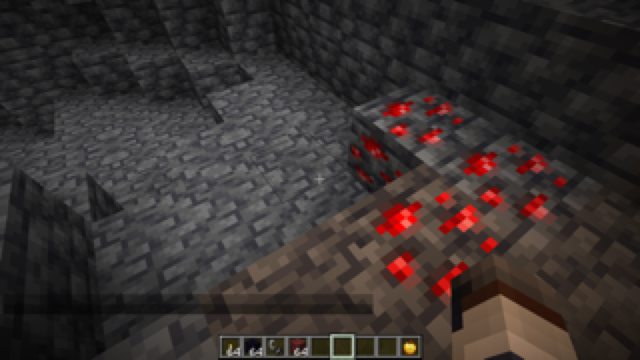redstone: (350, 82, 580, 307)
